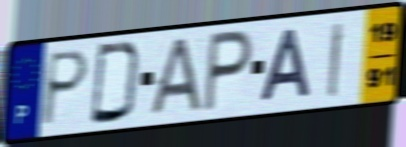A: (145, 35, 205, 118), (257, 26, 313, 106)
D: (88, 41, 144, 127)
I: (326, 19, 347, 100)
P: (201, 28, 255, 116), (38, 48, 92, 130)
